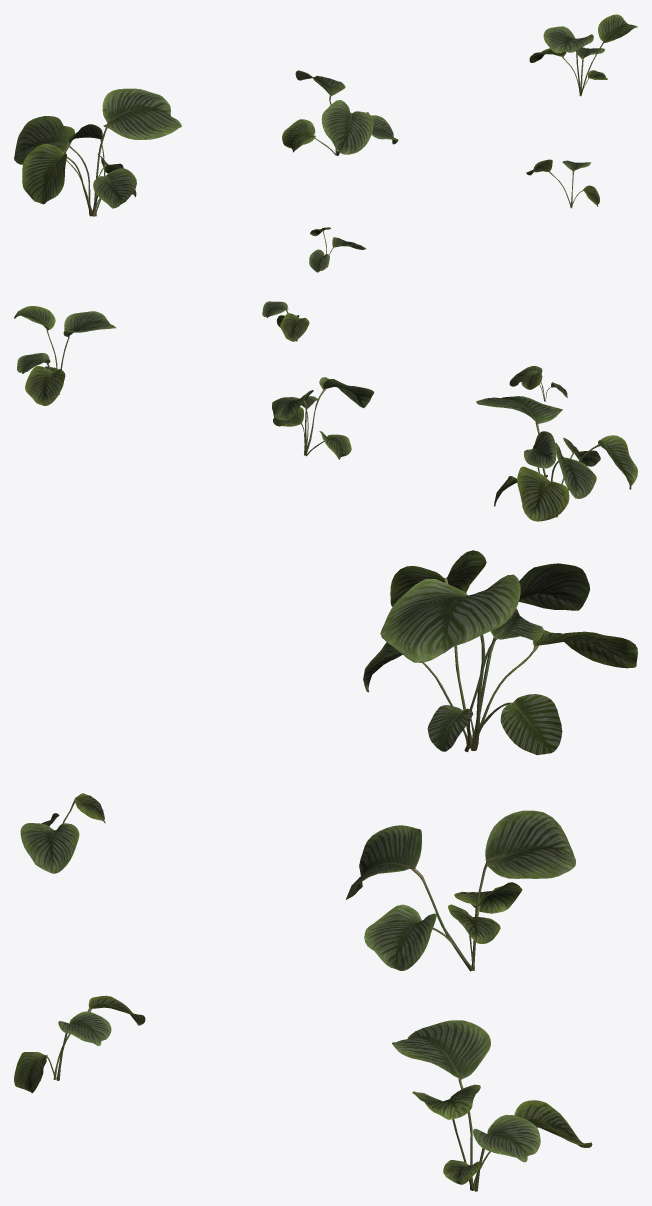
File: calathea_orbifolia_01.glb
3 views of the same model, one above another, from view 1: azimuth 30°, elevation 25°; view 2: azimuth 150°, elevation 25°; view 3: azimuth 270°, elevation 25° (orthographic). The views are drawn at different scales.
Parts seen in each view (by area): view 1: calathea_orbifolia_01_a, calathea_orbifolia_01_b, calathea_orbifolia_01_c, calathea_orbifolia_01_e, calathea_orbifolia_01_d; view 2: calathea_orbifolia_01_a, calathea_orbifolia_01_c, calathea_orbifolia_01_b, calathea_orbifolia_01_e, calathea_orbifolia_01_d; view 3: calathea_orbifolia_01_a, calathea_orbifolia_01_b, calathea_orbifolia_01_c, calathea_orbifolia_01_e, calathea_orbifolia_01_d.
Boxes of the visible parts, left/top/right/bottom form: calathea_orbifolia_01_a: left=14, top=88, right=181, bottom=216; calathea_orbifolia_01_b: left=282, top=70, right=398, bottom=155; calathea_orbifolia_01_c: left=529, top=14, right=637, bottom=96; calathea_orbifolia_01_e: left=526, top=159, right=599, bottom=208; calathea_orbifolia_01_d: left=309, top=227, right=365, bottom=272; calathea_orbifolia_01_a: left=476, top=396, right=637, bottom=521; calathea_orbifolia_01_c: left=14, top=306, right=115, bottom=405; calathea_orbifolia_01_b: left=272, top=377, right=374, bottom=459; calathea_orbifolia_01_e: left=262, top=301, right=309, bottom=341; calathea_orbifolia_01_d: left=509, top=366, right=567, bottom=401; calathea_orbifolia_01_a: left=363, top=550, right=637, bottom=755; calathea_orbifolia_01_b: left=346, top=810, right=575, bottom=971; calathea_orbifolia_01_c: left=392, top=1020, right=592, bottom=1191; calathea_orbifolia_01_e: left=14, top=995, right=145, bottom=1093; calathea_orbifolia_01_d: left=20, top=793, right=105, bottom=873.
Size of the model in its own units: 2.49 by 0.4244 by 1.19.
Materials: 1 (1 with a texture image).
